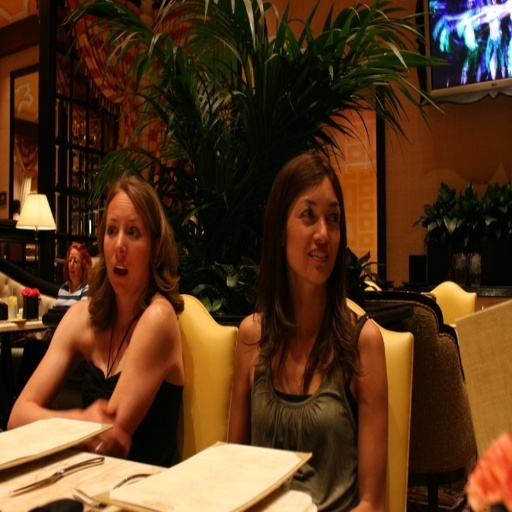hand: (77, 393, 131, 455)
